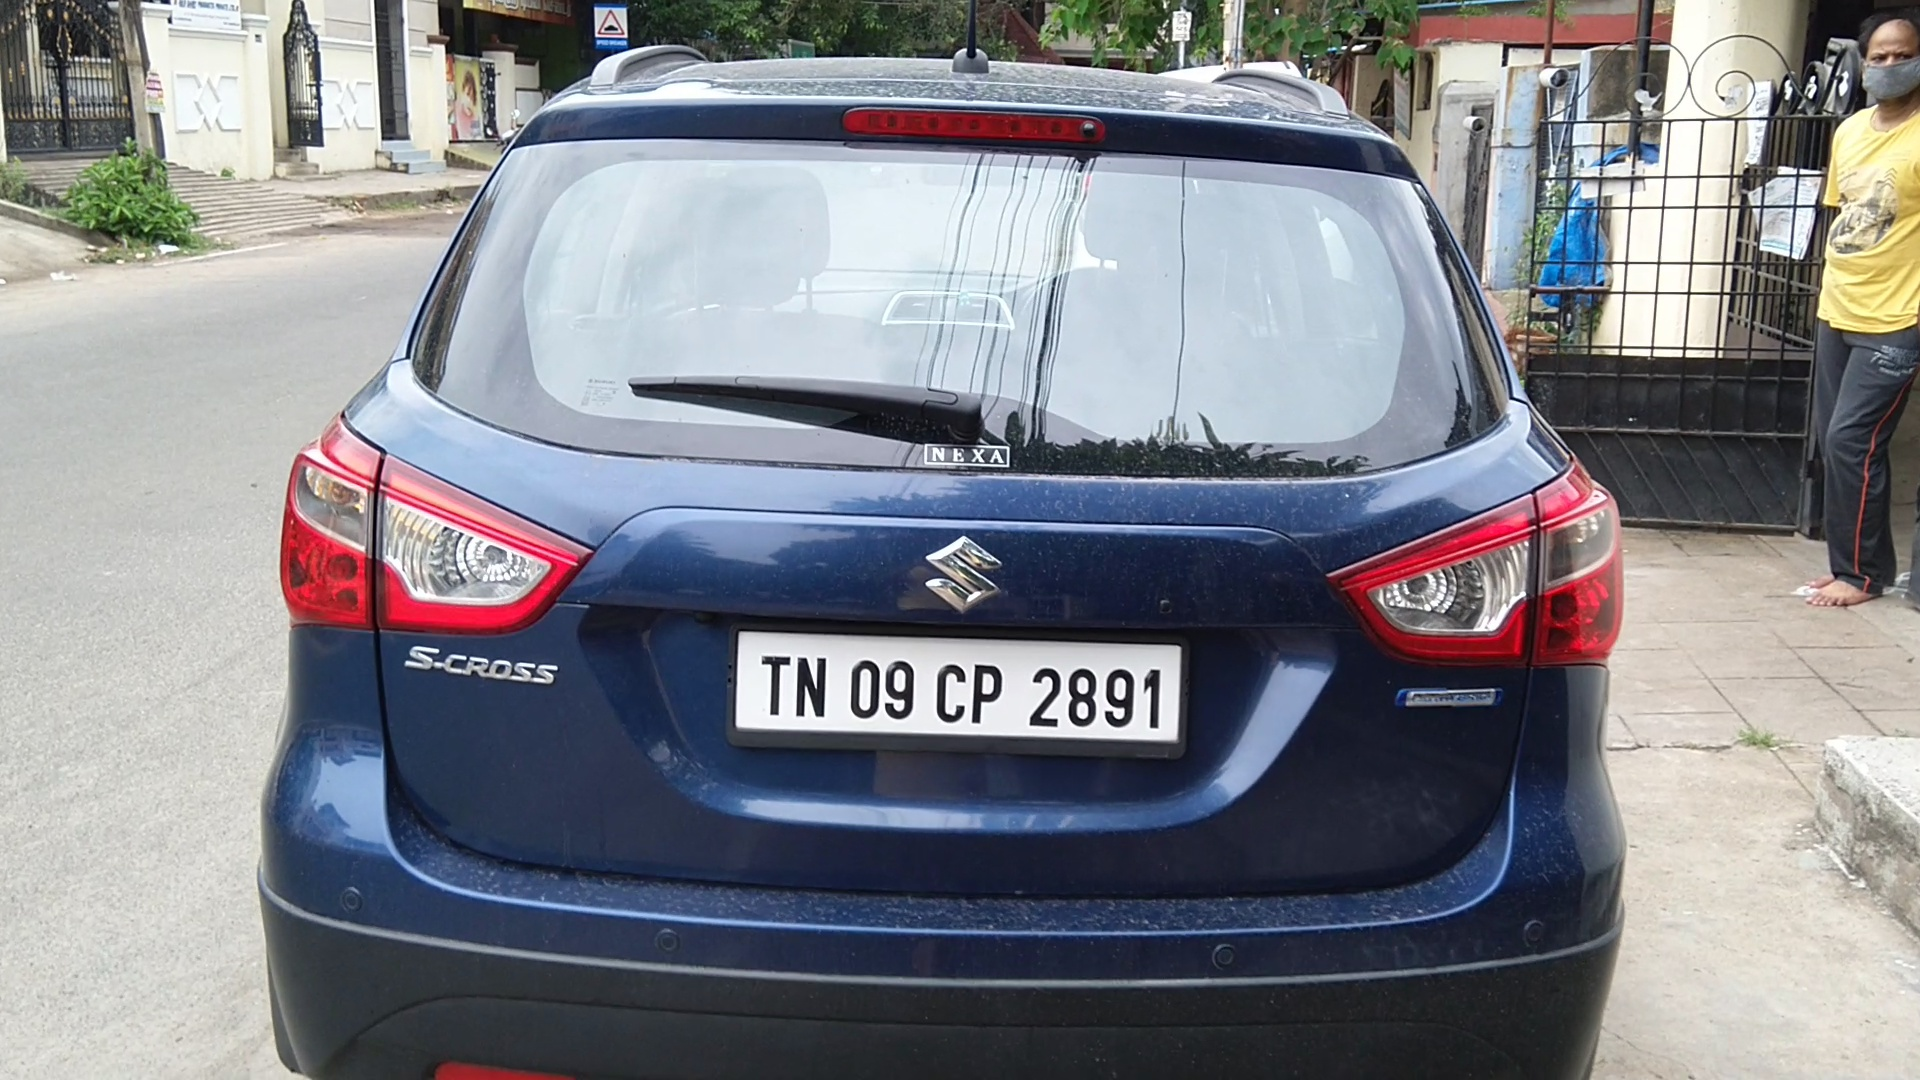rear_camera: (1071, 112, 1106, 150)
shvs: (1379, 673, 1514, 731)
